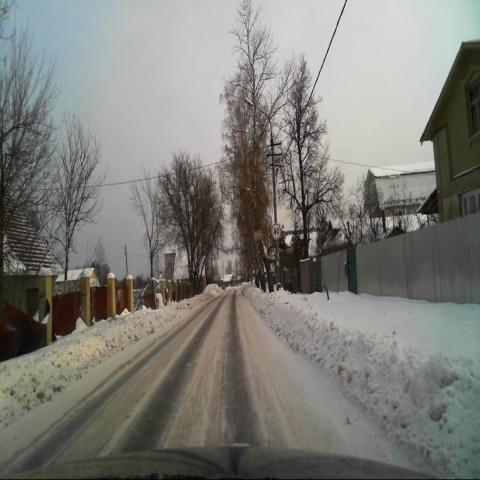3_24: (271, 223, 281, 240)
